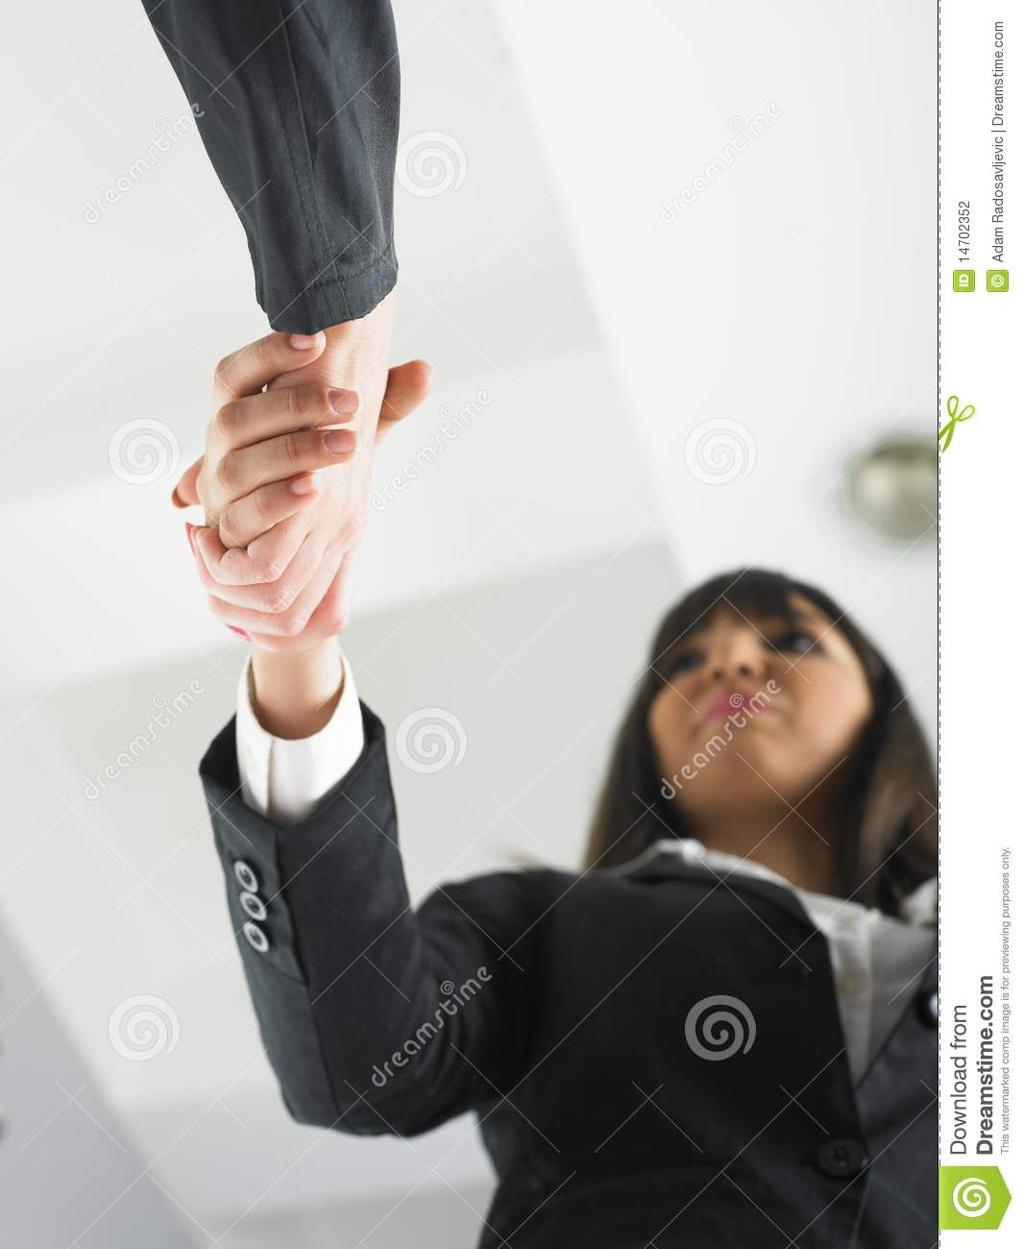face: (661, 590, 837, 790)
